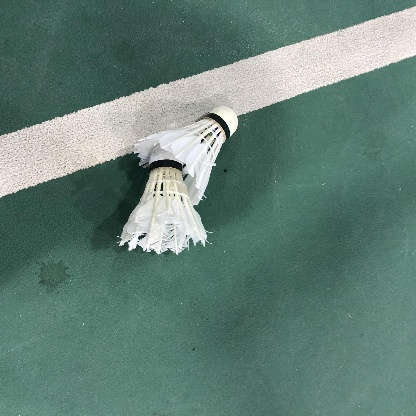ball_single: (119, 106, 239, 255)
